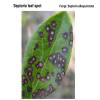Tomato Septoria leaf spot: (22, 12, 73, 97)
